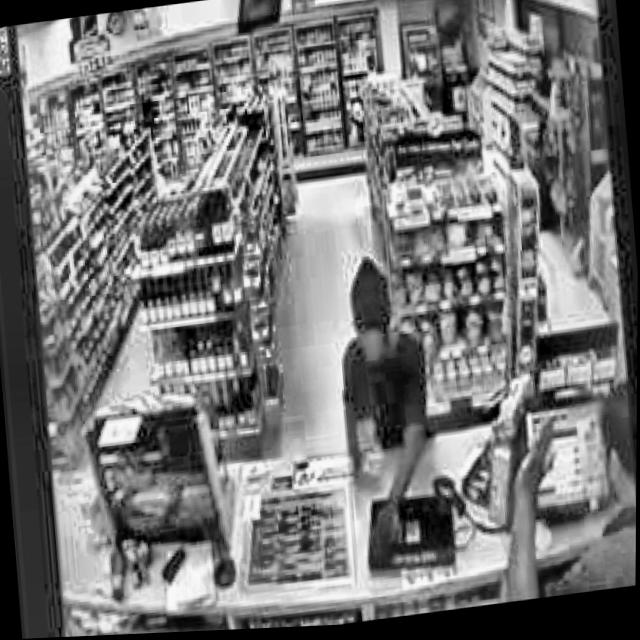robbery: (326, 248, 446, 552), (482, 387, 638, 608)
